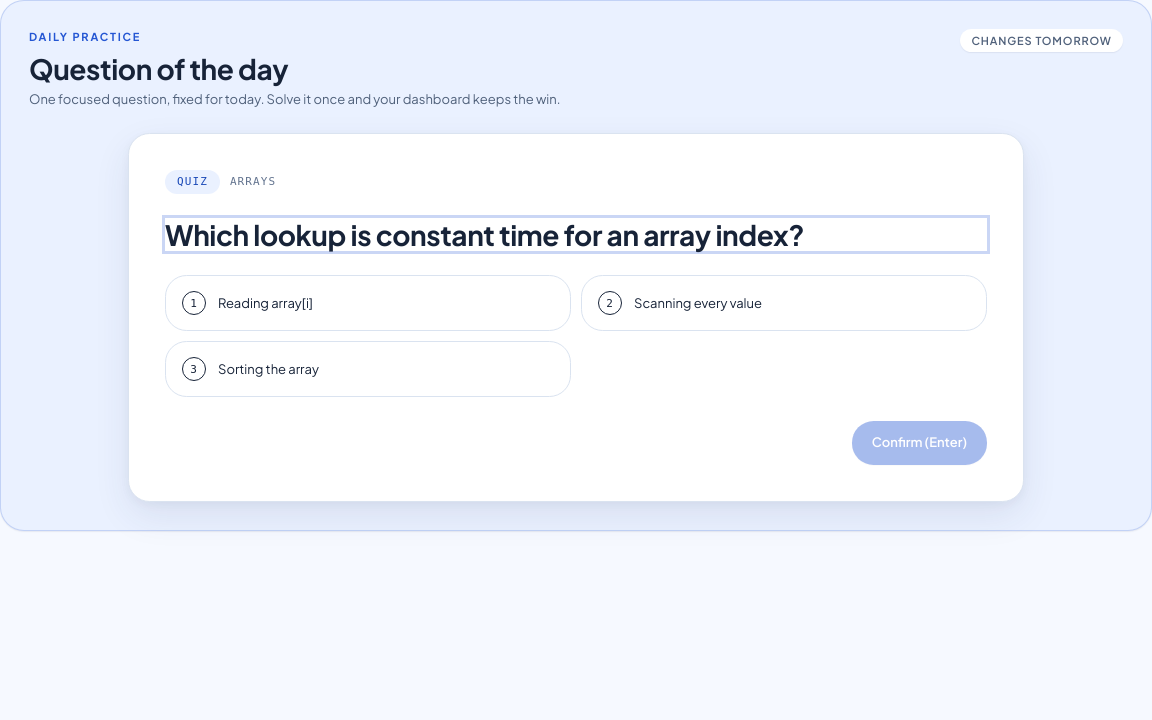
Test: DashboardQuestionOfDay › reports a save failure instead of showing a false completion
What coordinates should you click on to do the following:
click the button "1 Reading array[i]"
I would click on:
 (265, 303)
Its box is [165,276,571,332].
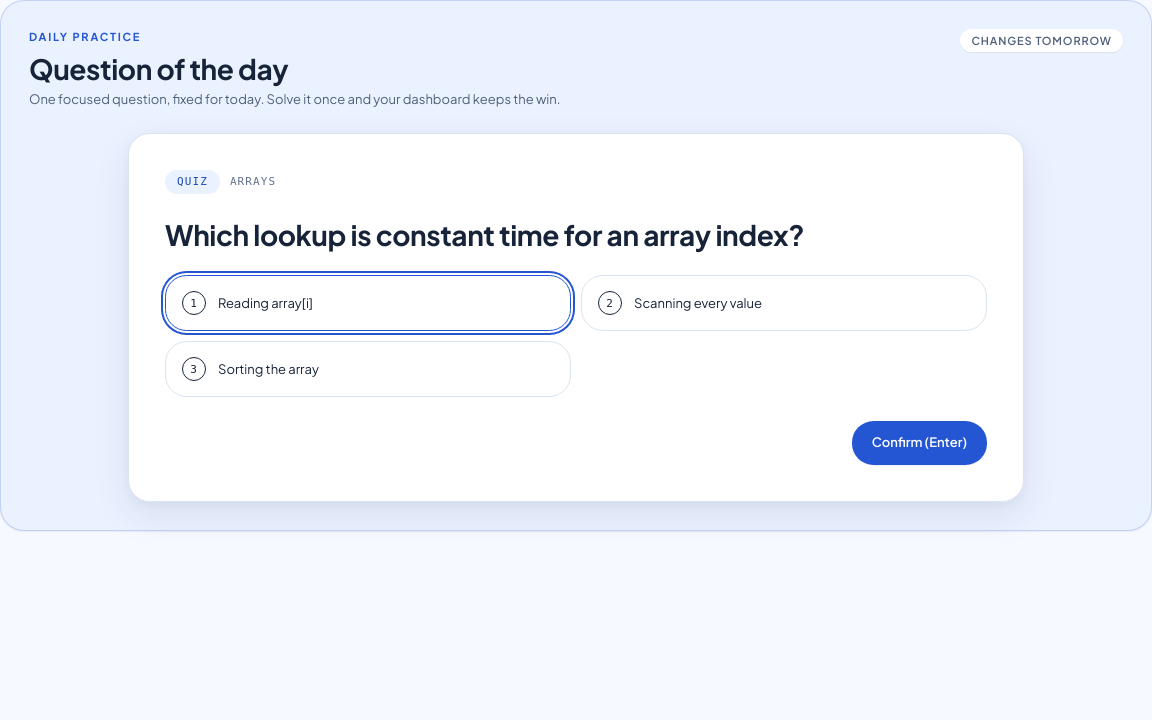
What coordinates should you click on to do the following:
click the button "Confirm (Enter)"
I would click on:
 (919, 443)
Its box is [852,422,987,465].
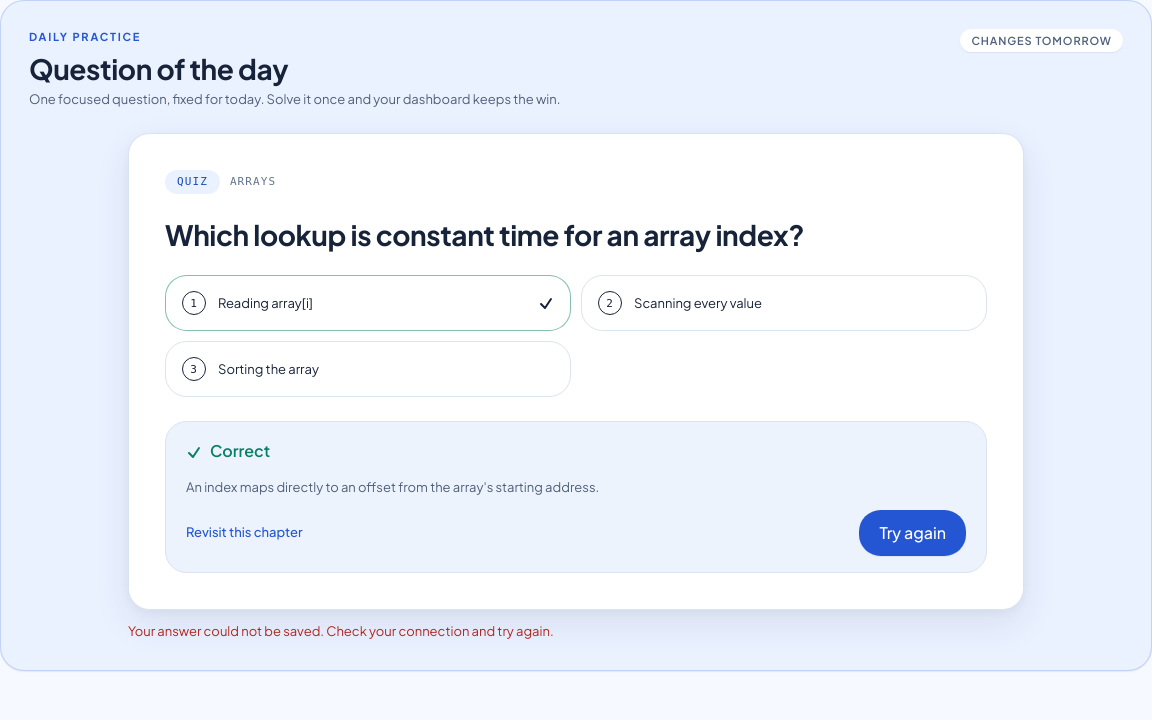
Result: the message "Your answer could not be saved. Check your connection and try again." is shown at [128,623,554,639]
